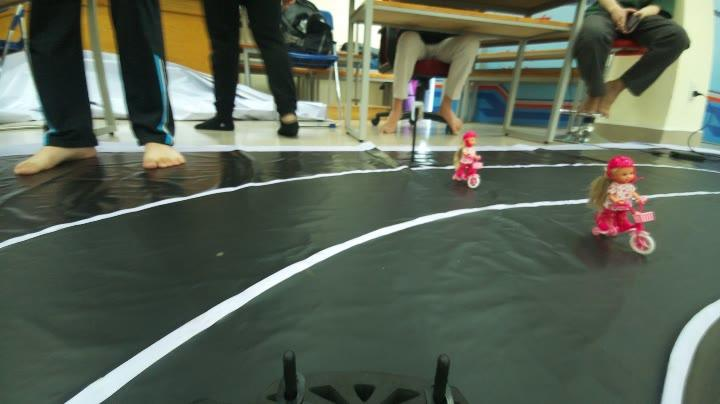pedestrian: (590, 152, 658, 256), (446, 129, 484, 190)
